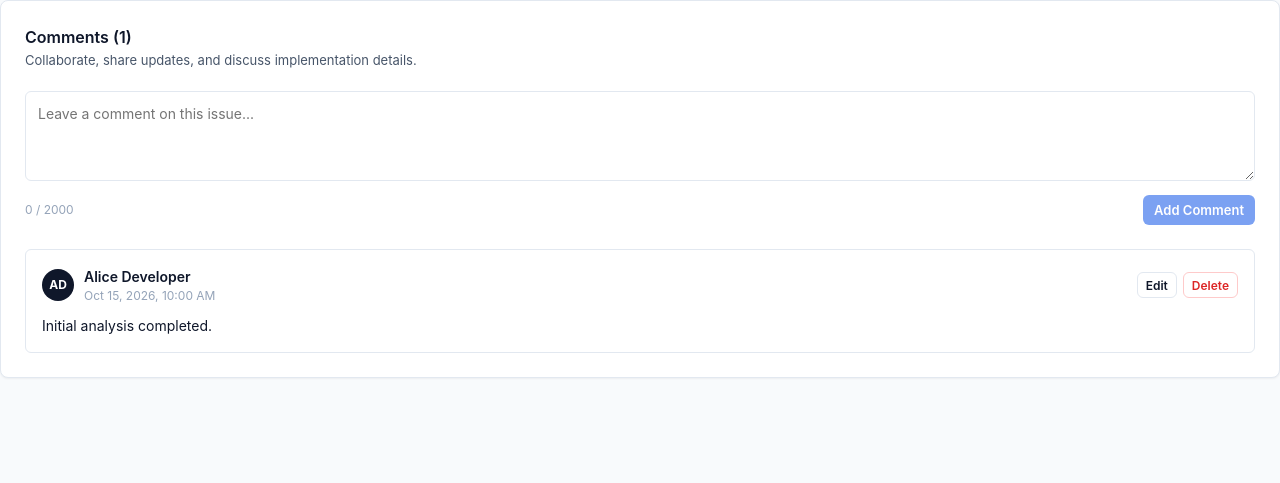
Test: IssueComments Component › allows author to edit a comment and updates text inline
Expected: the text "Initial analysis completed." is shown, 42,316 -> 212,334
// Alice Developer is user-1 and logged in, so edit button should be visible
Click the button with aria-label "Edit comment by Alice Developer" at (1157, 285), box 1137,272 -> 1177,298
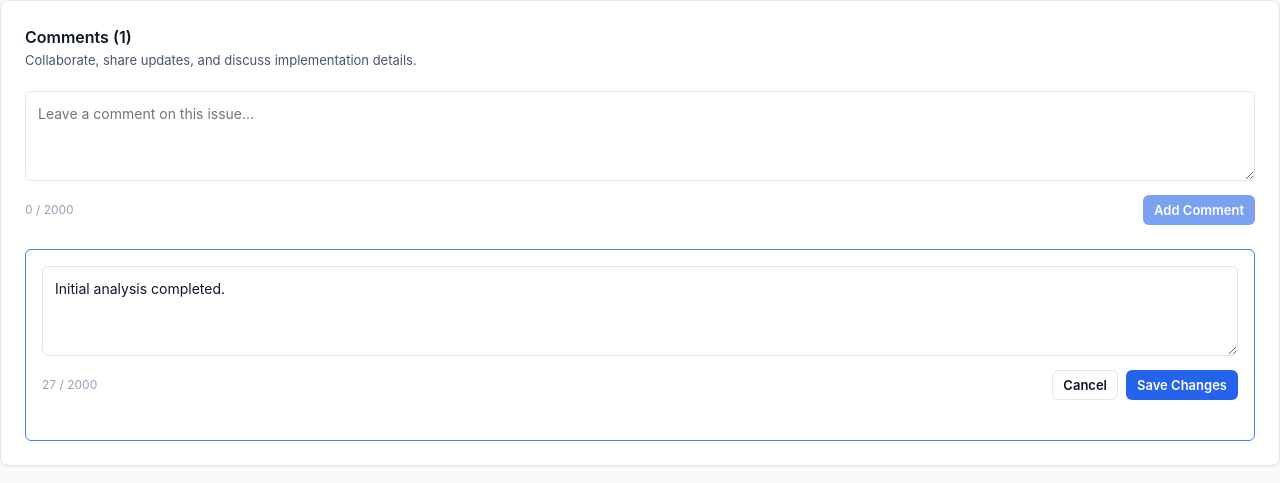
// Form appears inline
Replace the text in the text box showing "Initial analysis completed." with "Initial analysis completed with corrected telemetry." at (640, 310), box 42,266 -> 1238,356
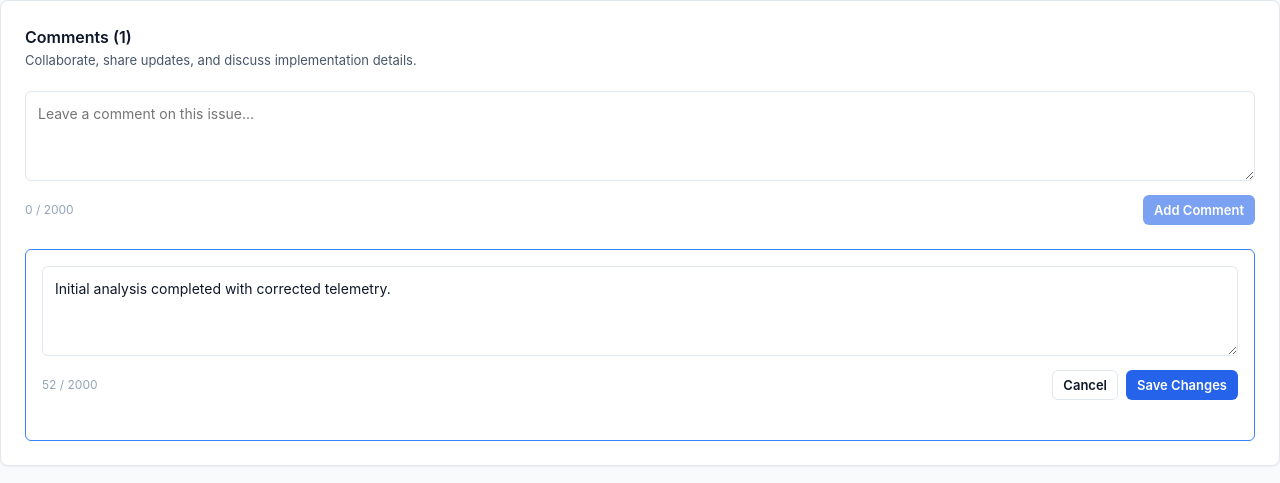
Click the button "Save Changes" at (1182, 384), box 1126,370 -> 1238,400
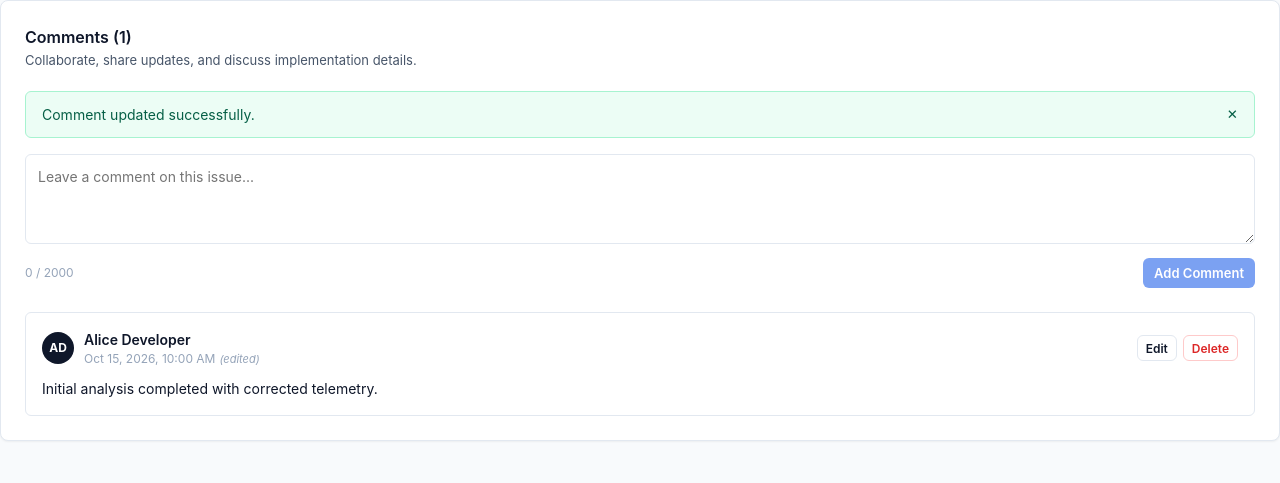
Now the text "Comment updated successfully." is shown, box 42,104 -> 255,124
Now the text "Initial analysis completed with corrected telemetry." is shown, box 42,380 -> 378,396
